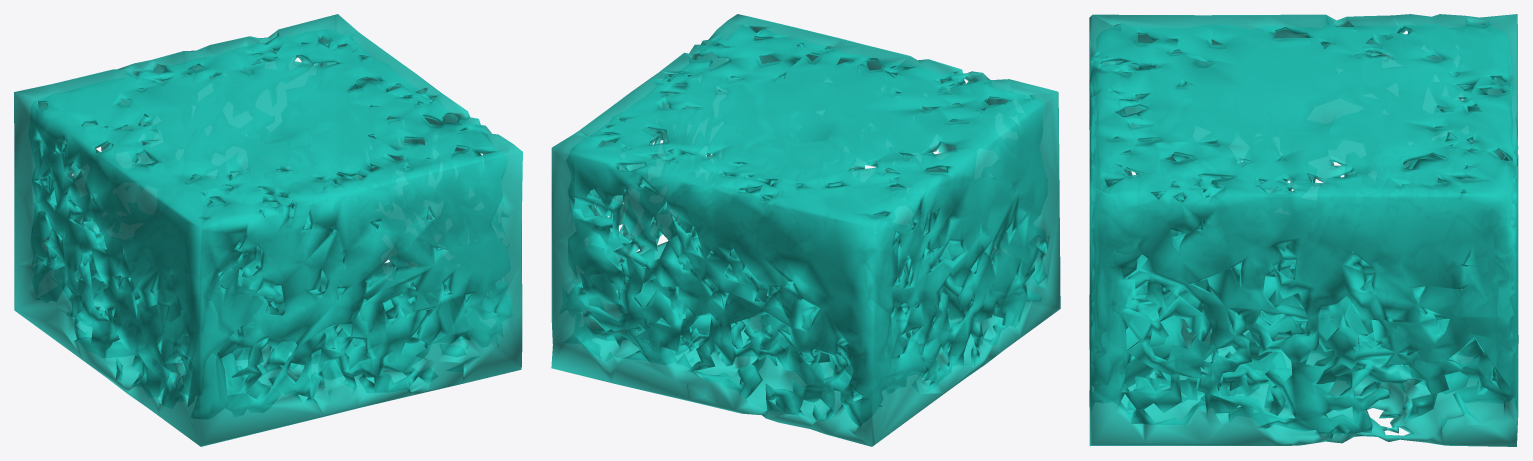
3 views of the same model, side by side, from view 1: azimuth 30°, elevation 25°; view 2: azimuth 150°, elevation 25°; view 3: azimuth 270°, elevation 25° (orthographic). The views are drawn at different scales.
Parts seen in each view (by area): view 1: Liquid_Domain; view 2: Liquid_Domain; view 3: Liquid_Domain.
Boxes of the visible parts, x1,y1,x2,y2 form: Liquid_Domain: [14, 14, 522, 446]; Liquid_Domain: [551, 14, 1060, 446]; Liquid_Domain: [1089, 14, 1518, 446].
Size of the model in its own units: 391 by 254 by 391.
